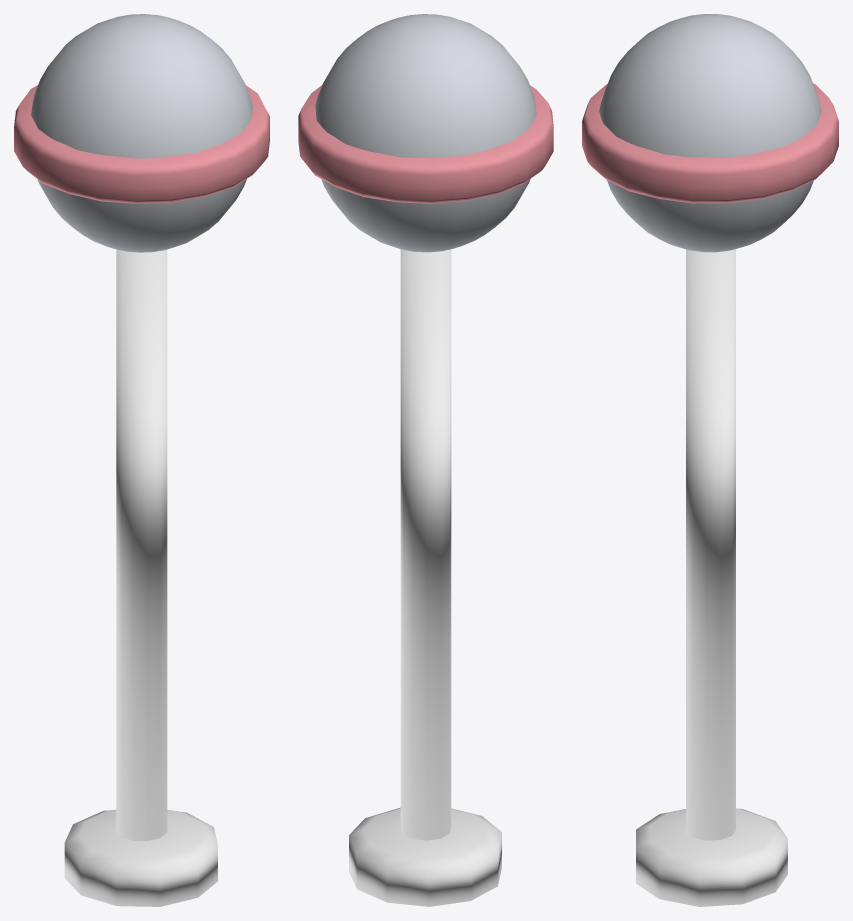
Rendered from Lollipop lamp.fbx.
3 views of the same model, side by side, from view 1: azimuth 30°, elevation 25°; view 2: azimuth 150°, elevation 25°; view 3: azimuth 270°, elevation 25° (orthographic).
Parts seen in each view (by area): view 1: Sphere, Cylinder.005, Cylinder.004, Cylinder.006; view 2: Sphere, Cylinder.005, Cylinder.004, Cylinder.006; view 3: Sphere, Cylinder.005, Cylinder.004, Cylinder.006.
Part boxes in pixels (<box>): Sphere: <box>31,14,252,252</box>; Cylinder.005: <box>116,249,167,840</box>; Cylinder.004: <box>14,85,269,203</box>; Cylinder.006: <box>64,809,217,906</box>; Sphere: <box>315,14,536,252</box>; Cylinder.005: <box>400,249,451,840</box>; Cylinder.004: <box>298,85,553,203</box>; Cylinder.006: <box>349,807,501,906</box>; Sphere: <box>599,14,821,252</box>; Cylinder.005: <box>686,249,735,840</box>; Cylinder.004: <box>582,83,838,203</box>; Cylinder.006: <box>636,808,787,906</box>.
Bounding box in the file's own units: 127 × 471 × 129.
